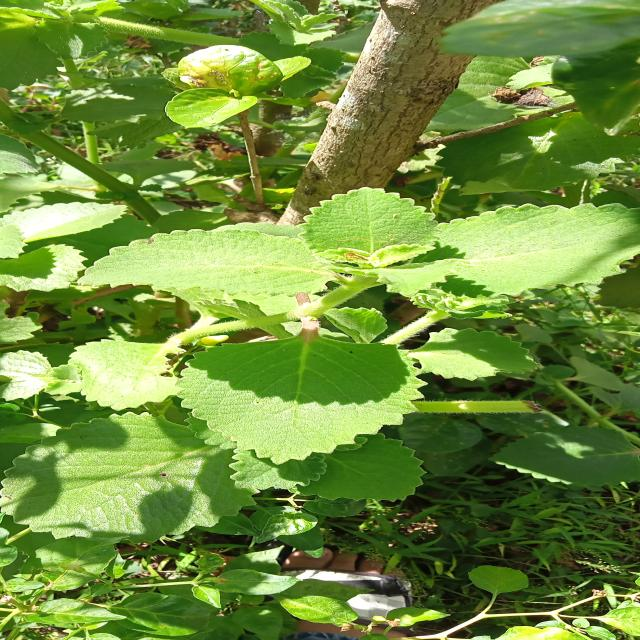Oregano: (0, 138, 640, 511), (148, 311, 445, 463), (63, 220, 431, 342), (336, 162, 640, 306), (278, 170, 500, 288)
